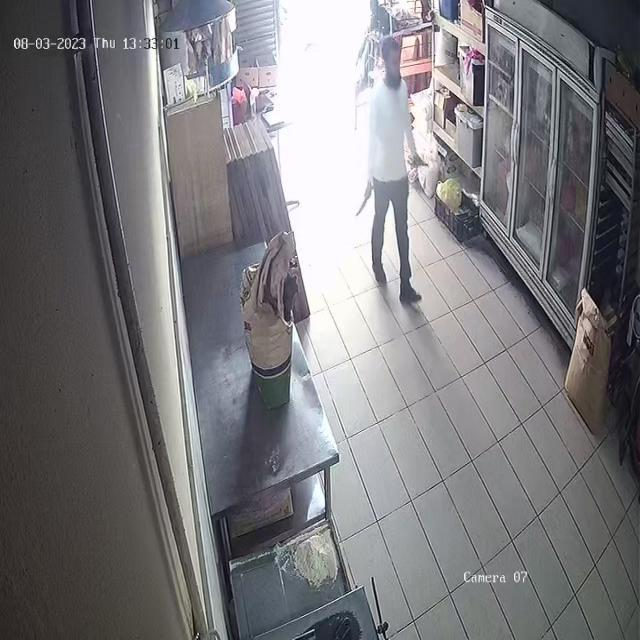Knife: (350, 182, 377, 219)
